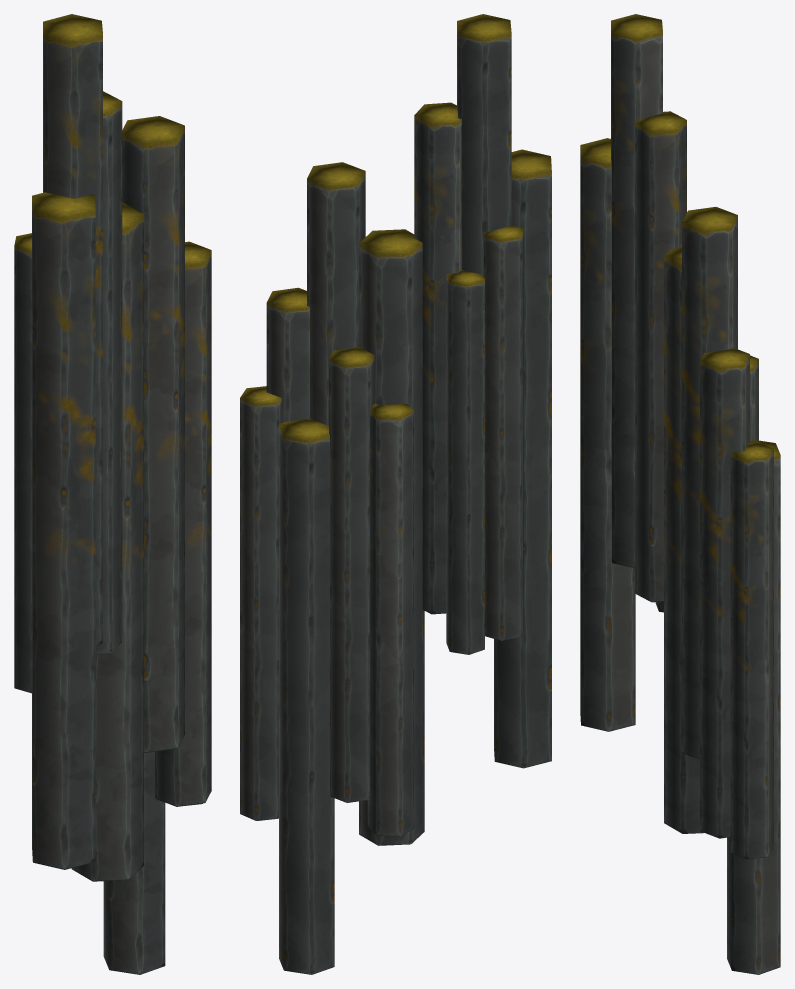
The model's file is SM_Pillar_Merged_07.glb.
The picture shows the model from 3 angles, left to right: view 1: azimuth 30°, elevation 25°; view 2: azimuth 150°, elevation 25°; view 3: azimuth 270°, elevation 25°; orthographic projection. The views are drawn at different scales.
Parts seen in each view (by area): view 1: SM_Pillar_Merged_07; view 2: SM_Pillar_Merged_07; view 3: SM_Pillar_Merged_07.
Boxes of the visible parts, x1,y1,x2,y2 form: SM_Pillar_Merged_07: (14, 14, 211, 974); SM_Pillar_Merged_07: (240, 14, 551, 974); SM_Pillar_Merged_07: (580, 14, 780, 974).
Bounding box in the file's own units: 11.11 × 41.91 × 8.63.
1 material, 1 textured.
